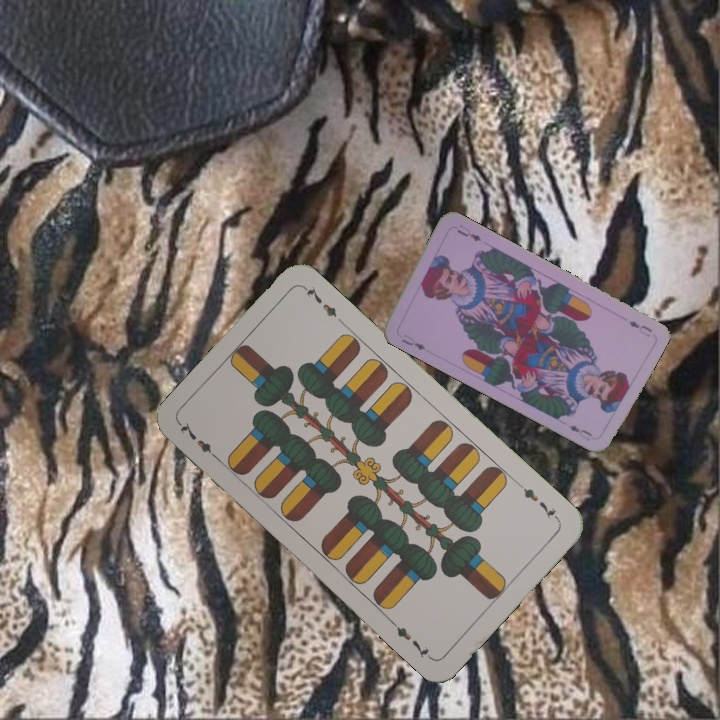E7: (175, 418, 223, 464), (519, 484, 562, 523)
EU: (625, 316, 655, 340), (397, 331, 428, 353)
